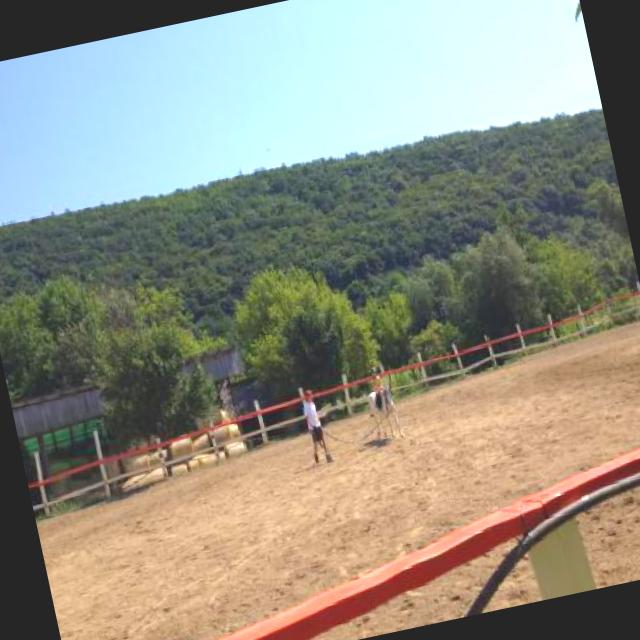Person: (298, 398, 347, 474), (370, 365, 385, 394)
